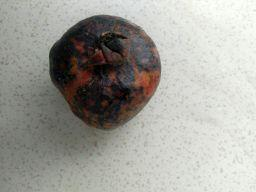pomegranate: (49, 14, 162, 131)
